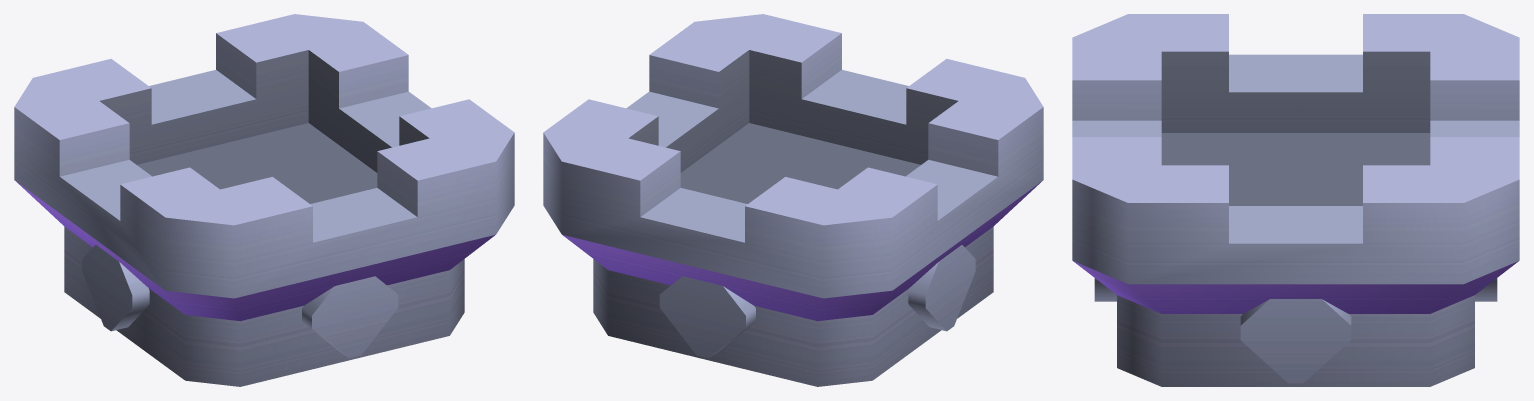
Rendered from tower-square-top-c.glb.
The picture shows the model from 3 angles, left to right: view 1: azimuth 30°, elevation 25°; view 2: azimuth 150°, elevation 25°; view 3: azimuth 270°, elevation 25°; orthographic projection. The views are drawn at different scales.
Parts seen in each view (by area): view 1: tower-square-top-c; view 2: tower-square-top-c; view 3: tower-square-top-c.
Boxes of the visible parts, x1,y1,x2,y2 form: tower-square-top-c: (14,14,514,386); tower-square-top-c: (543,14,1043,386); tower-square-top-c: (1072,14,1519,386).
Size of the model in its own units: 1 by 0.5001 by 1.
Materials: 1 (1 with a texture image).
